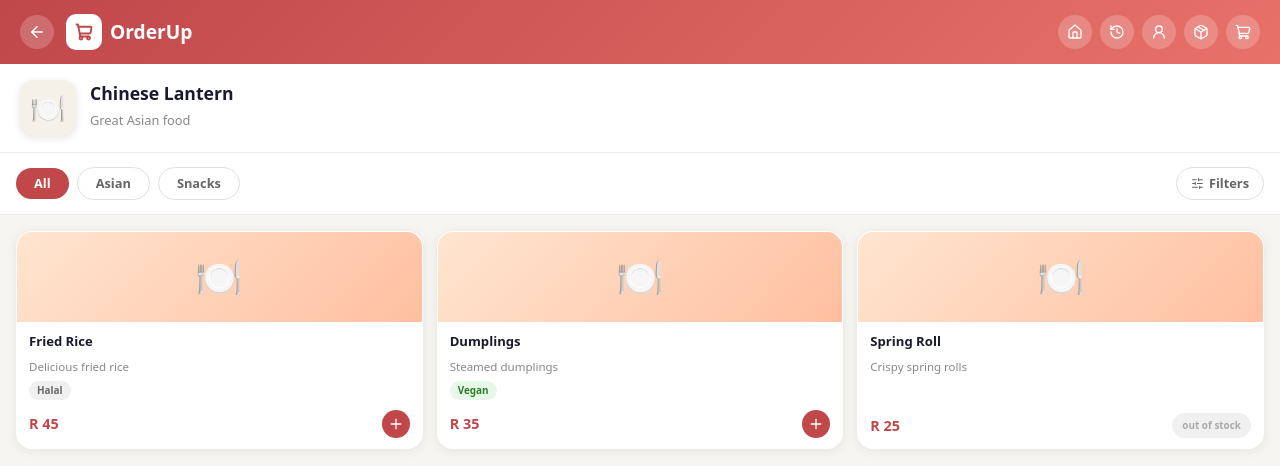
VendorMenuPage › clicking All shows all items again
Click the button "Snacks". click: x=199, y=184
box: [158,167,240,200]
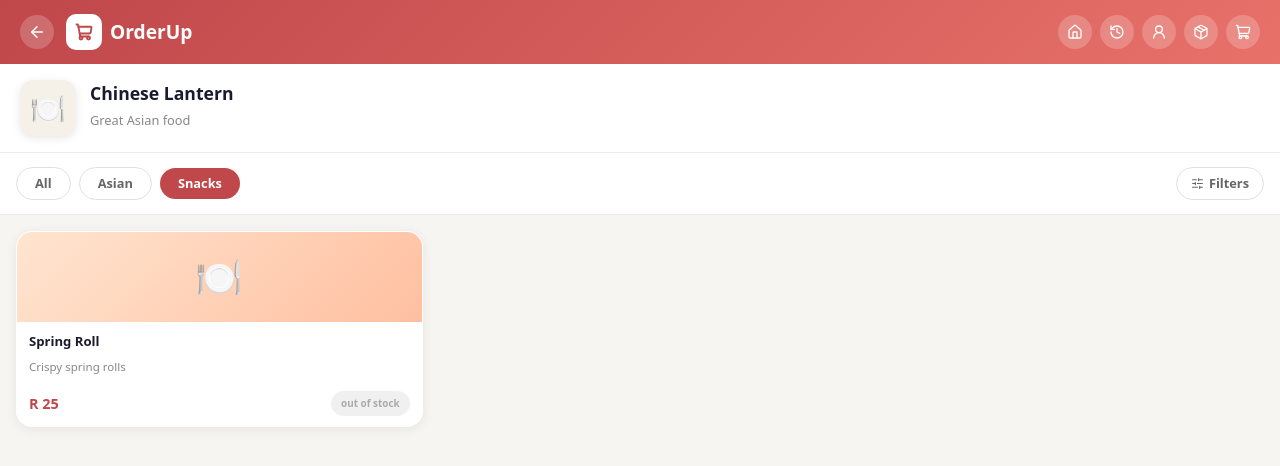
Click the button "All". click: x=43, y=184
box: [16,167,71,200]
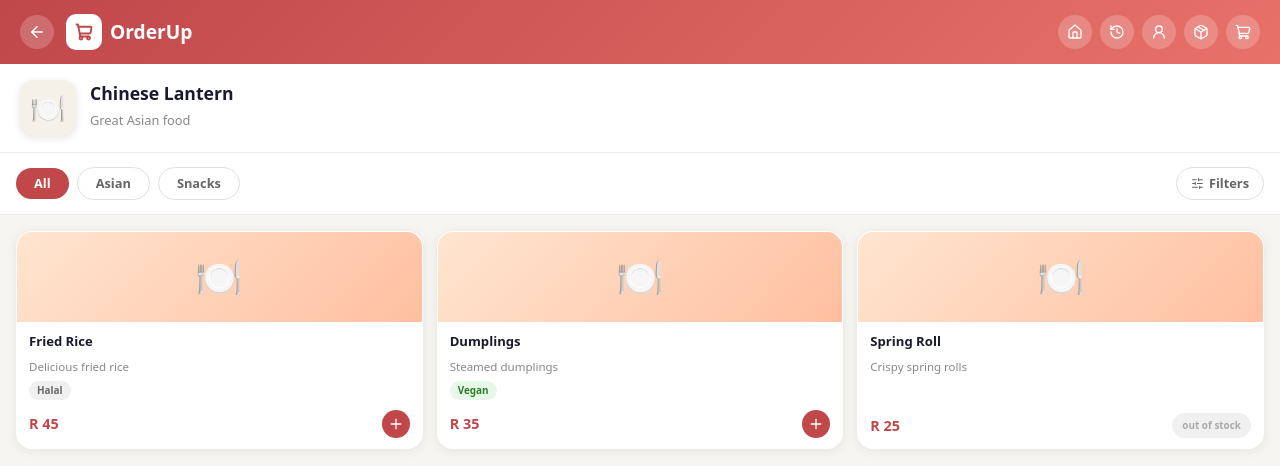
Expected: the heading "Spring Roll" is shown, [870,332,941,350]
Expected: the heading "Fried Rice" is shown, [29,332,93,350]
